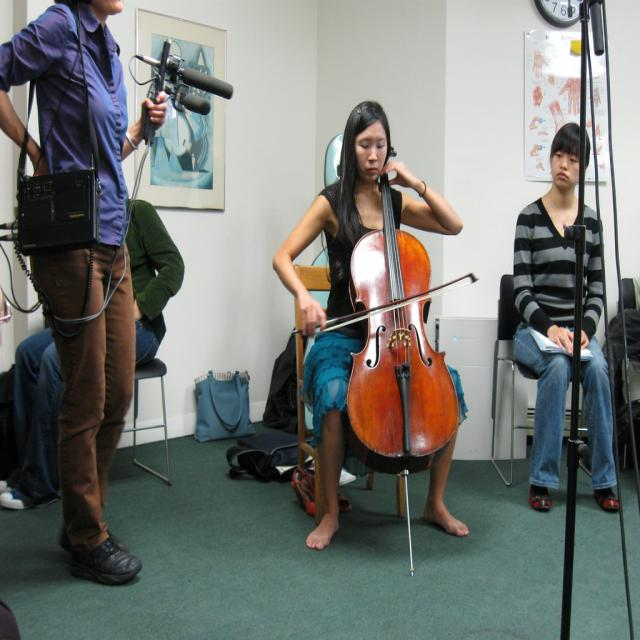cello: (342, 148, 458, 476)
